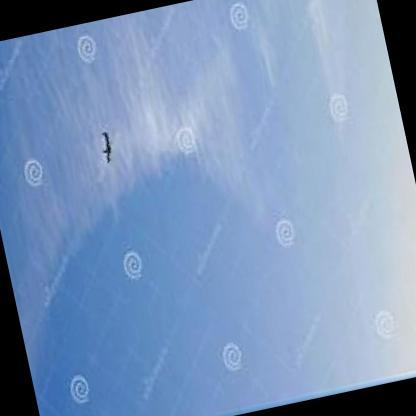plane: (93, 124, 122, 167)
